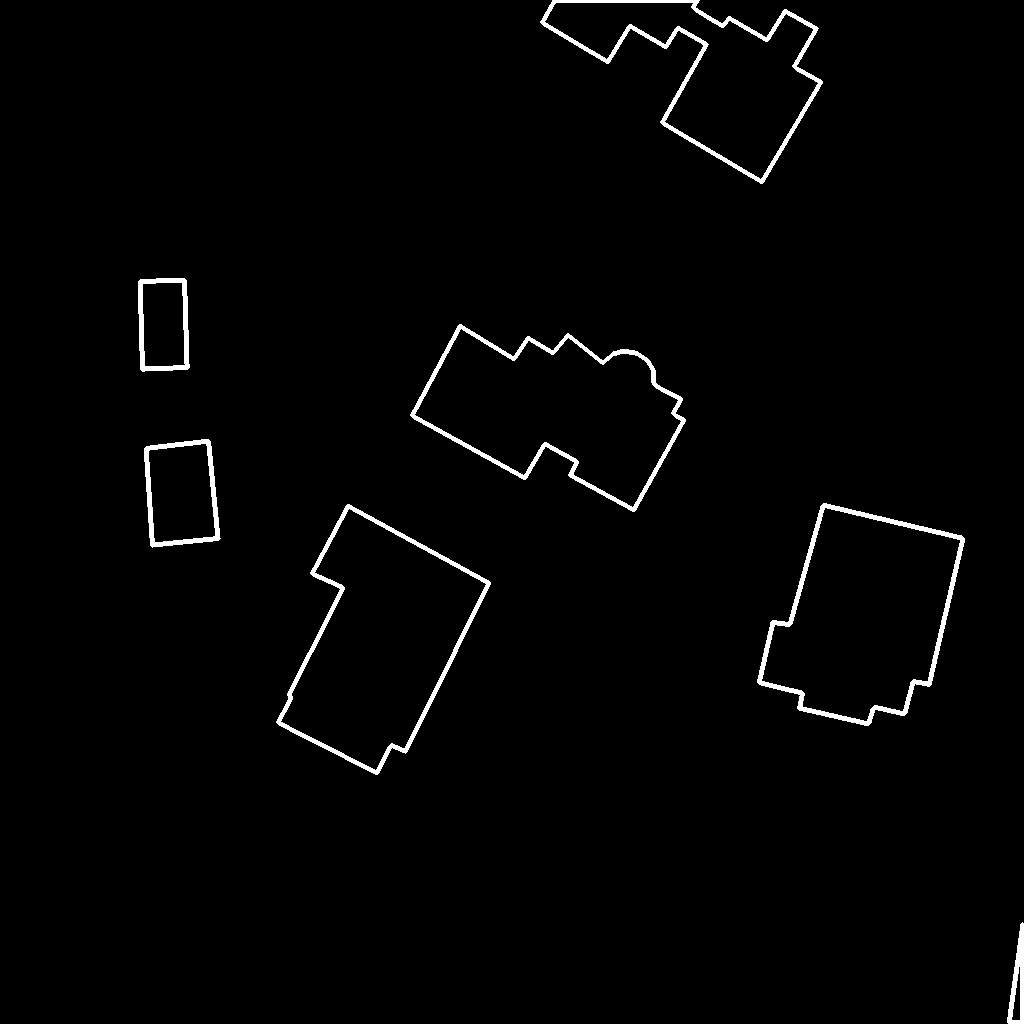building: (278, 506, 490, 774), (542, 0, 822, 183), (412, 326, 685, 511), (759, 505, 964, 725), (146, 441, 219, 546), (140, 280, 188, 370), (1009, 921, 1024, 1024)
